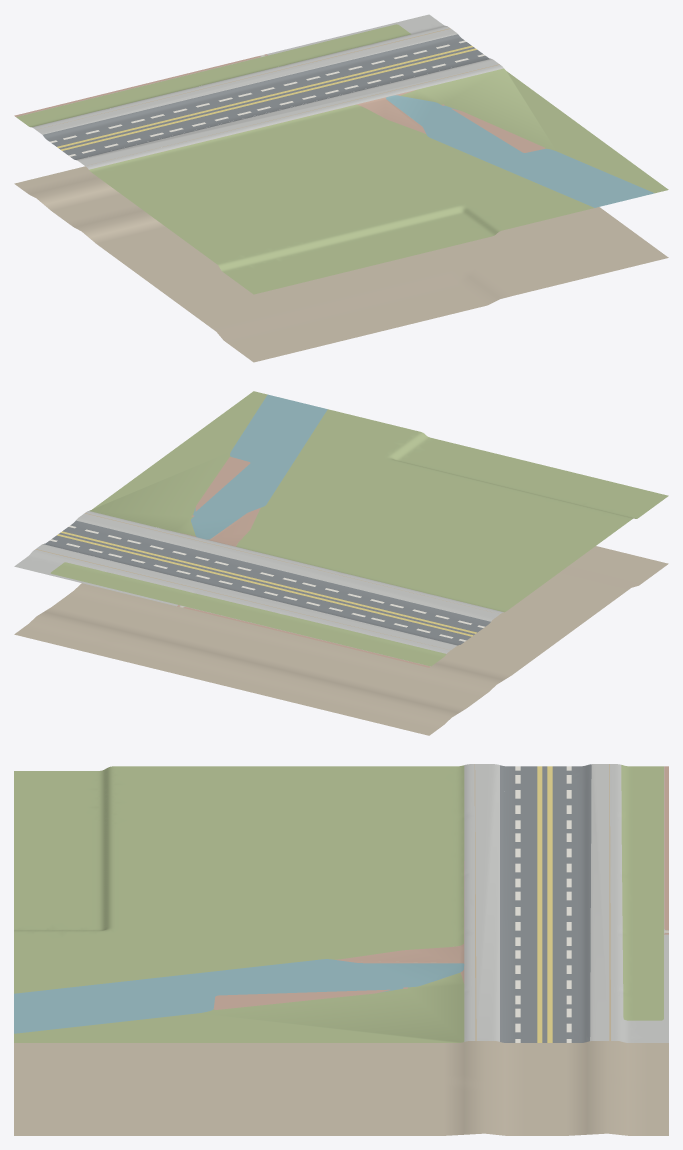
3 views of the same model, one above another, from view 1: azimuth 30°, elevation 25°; view 2: azimuth 150°, elevation 25°; view 3: azimuth 270°, elevation 25° (orthographic). The views are drawn at different scales.
Visible parts, largest first — view 1: s_-2_4__grass, s_-2_4__soil, s_-2_4__asphalt, s_-2_4__stone_paving, s_-2_4__blue_paving, s_-2_4__brick_paving, s_-2_4__yellow_marking, s_-2_4__white_marking, s_-2_4__timber_deck; view 2: s_-2_4__grass, s_-2_4__soil, s_-2_4__asphalt, s_-2_4__stone_paving, s_-2_4__blue_paving, s_-2_4__brick_paving, s_-2_4__yellow_marking, s_-2_4__white_marking, s_-2_4__timber_deck; view 3: s_-2_4__grass, s_-2_4__soil, s_-2_4__asphalt, s_-2_4__stone_paving, s_-2_4__blue_paving, s_-2_4__brick_paving, s_-2_4__yellow_marking, s_-2_4__white_marking, s_-2_4__timber_deck.
Part boxes in pixels (bbox=[...]): s_-2_4__grass: bbox=[16, 24, 668, 294]; s_-2_4__soil: bbox=[14, 100, 668, 362]; s_-2_4__asphalt: bbox=[43, 34, 490, 159]; s_-2_4__stone_paving: bbox=[23, 14, 503, 169]; s_-2_4__blue_paving: bbox=[386, 95, 654, 207]; s_-2_4__brick_paving: bbox=[14, 54, 545, 152]; s_-2_4__yellow_marking: bbox=[57, 45, 476, 150]; s_-2_4__white_marking: bbox=[50, 40, 484, 156]; s_-2_4__timber_deck: bbox=[36, 28, 499, 165]; s_-2_4__grass: bbox=[50, 391, 668, 666]; s_-2_4__soil: bbox=[14, 546, 668, 735]; s_-2_4__asphalt: bbox=[43, 520, 490, 645]; s_-2_4__stone_paving: bbox=[14, 511, 503, 666]; s_-2_4__blue_paving: bbox=[191, 394, 327, 539]; s_-2_4__brick_paving: bbox=[177, 457, 430, 667]; s_-2_4__yellow_marking: bbox=[57, 531, 476, 636]; s_-2_4__white_marking: bbox=[50, 525, 484, 641]; s_-2_4__timber_deck: bbox=[35, 513, 498, 650]; s_-2_4__grass: bbox=[14, 765, 663, 1042]; s_-2_4__soil: bbox=[14, 961, 668, 1135]; s_-2_4__asphalt: bbox=[500, 764, 591, 1042]; s_-2_4__stone_paving: bbox=[464, 764, 668, 1042]; s_-2_4__blue_paving: bbox=[14, 959, 464, 1033]; s_-2_4__brick_paving: bbox=[213, 766, 668, 1009]; s_-2_4__yellow_marking: bbox=[537, 766, 552, 1042]; s_-2_4__white_marking: bbox=[515, 766, 571, 1042]; s_-2_4__timber_deck: bbox=[474, 764, 610, 1040].
Size of the model in its own units: 128 by 21.51 by 128.
